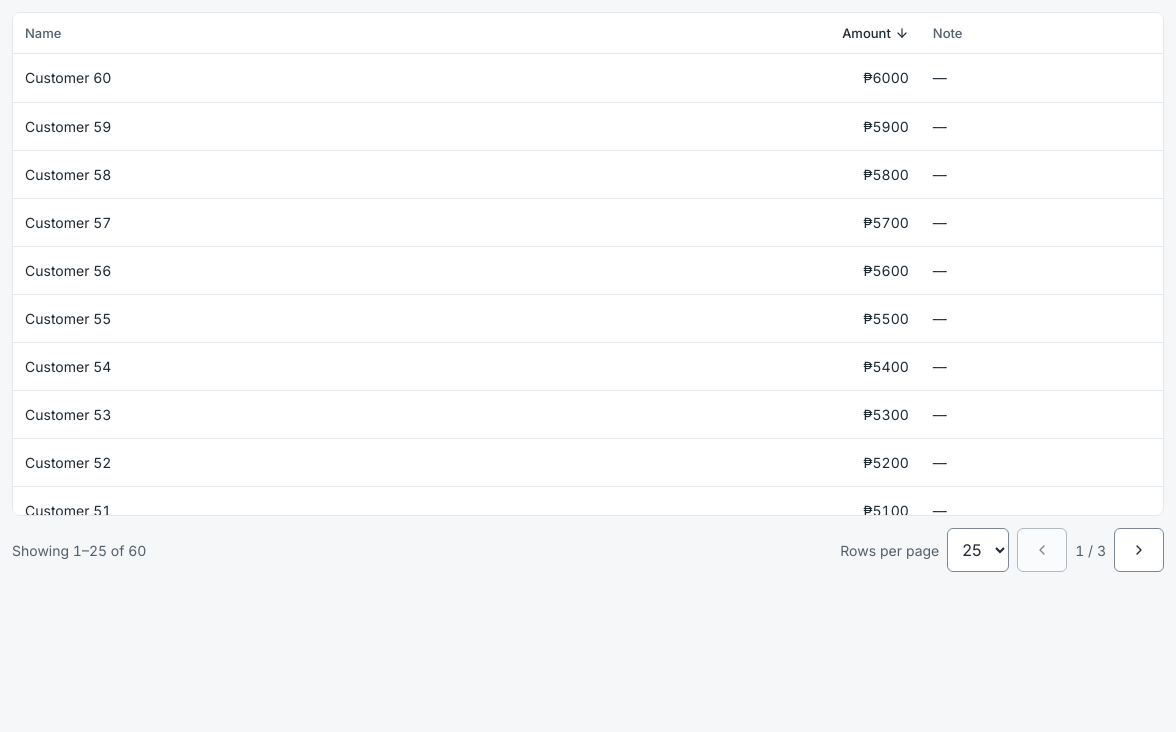
Test: ResultsView › desktop: sorts everything before paging, shows the range, and pages
The image size is (1176, 732).
Expected: the text "Showing 1–25 of 60" is shown, x1=12 y1=540 x2=146 y2=560
Expected: the row "Customer 60 ₱6000 —" is shown, x1=13 y1=54 x2=1163 y2=102
Click the button named "Next page" at (1139, 550), box x1=1114 y1=528 x2=1164 y2=572
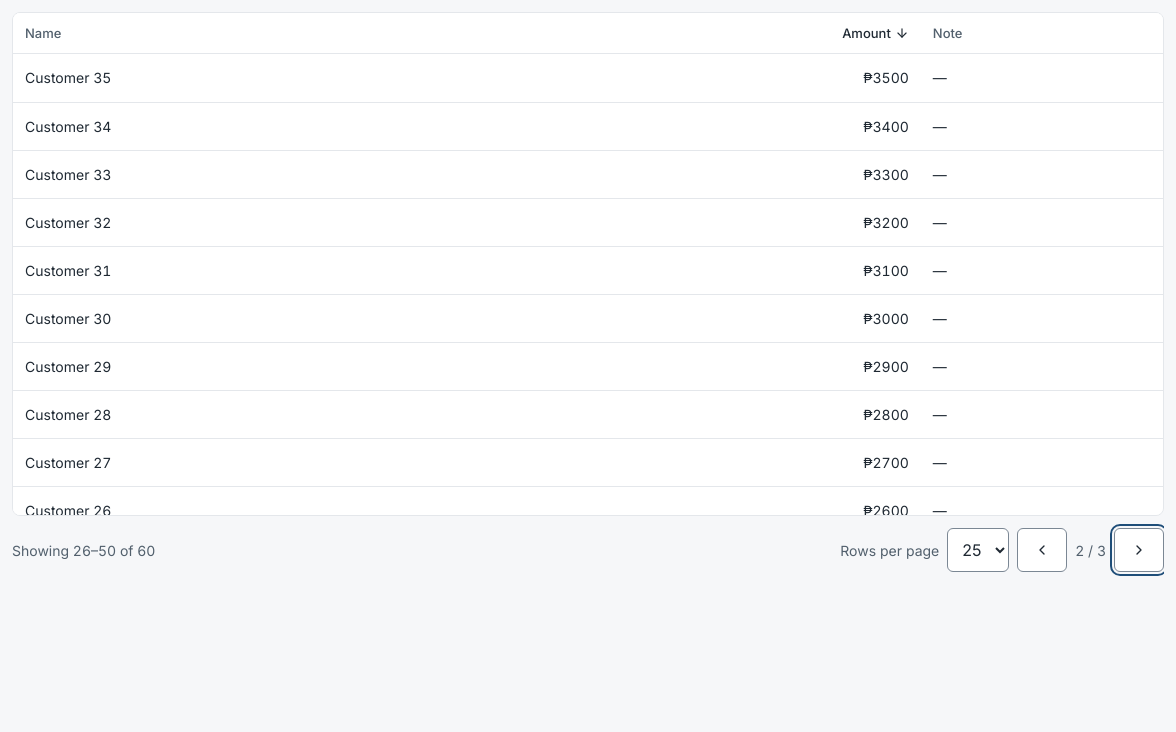
Result: the text "Showing 26–50 of 60" is shown at x1=12 y1=540 x2=155 y2=560
Click the button named "Next page" at (1139, 550), box x1=1114 y1=528 x2=1164 y2=572
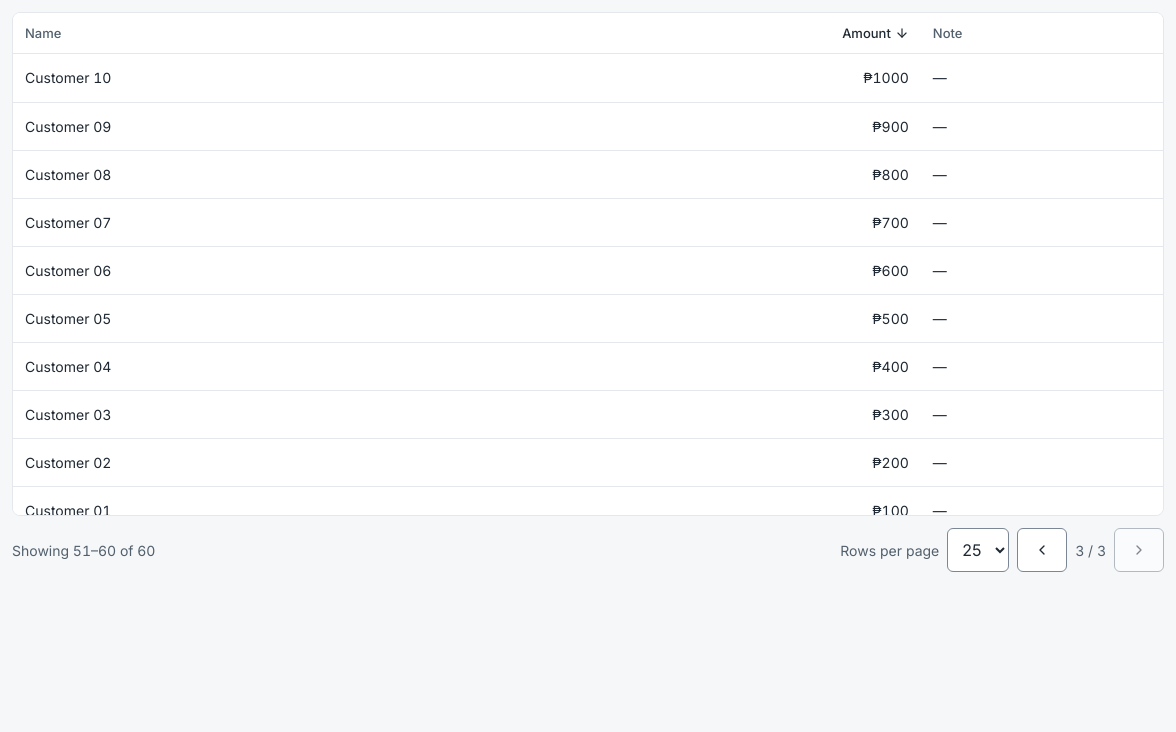
Result: the text "Showing 51–60 of 60" is shown at x1=12 y1=540 x2=155 y2=560
Select "50" in the dropdown labelled "Rows per page" at (978, 550), box x1=947 y1=528 x2=1009 y2=572
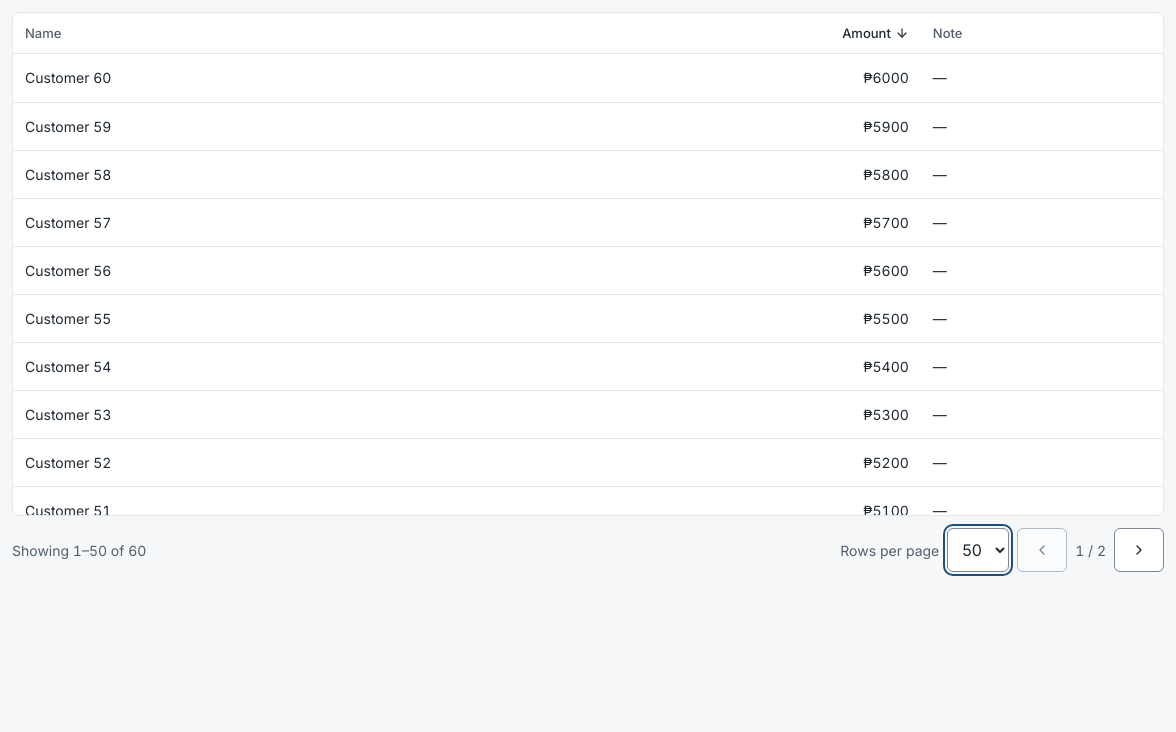
Result: the text "Showing 1–50 of 60" is shown at x1=12 y1=540 x2=146 y2=560
